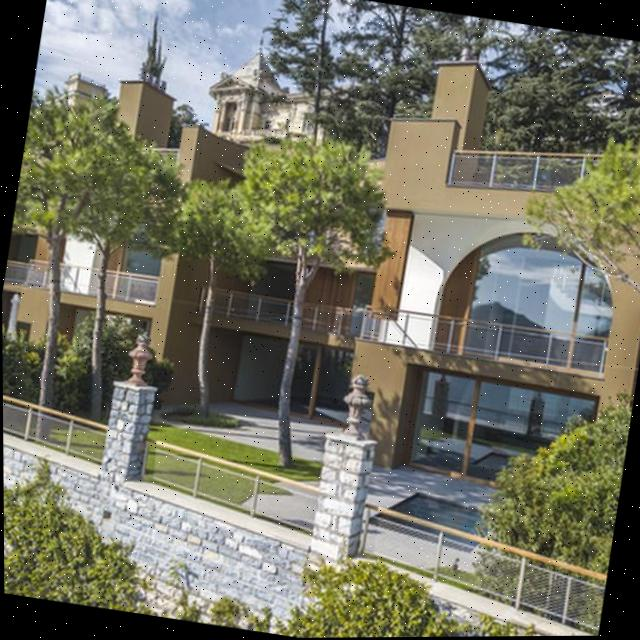building: (0, 25, 640, 513)
